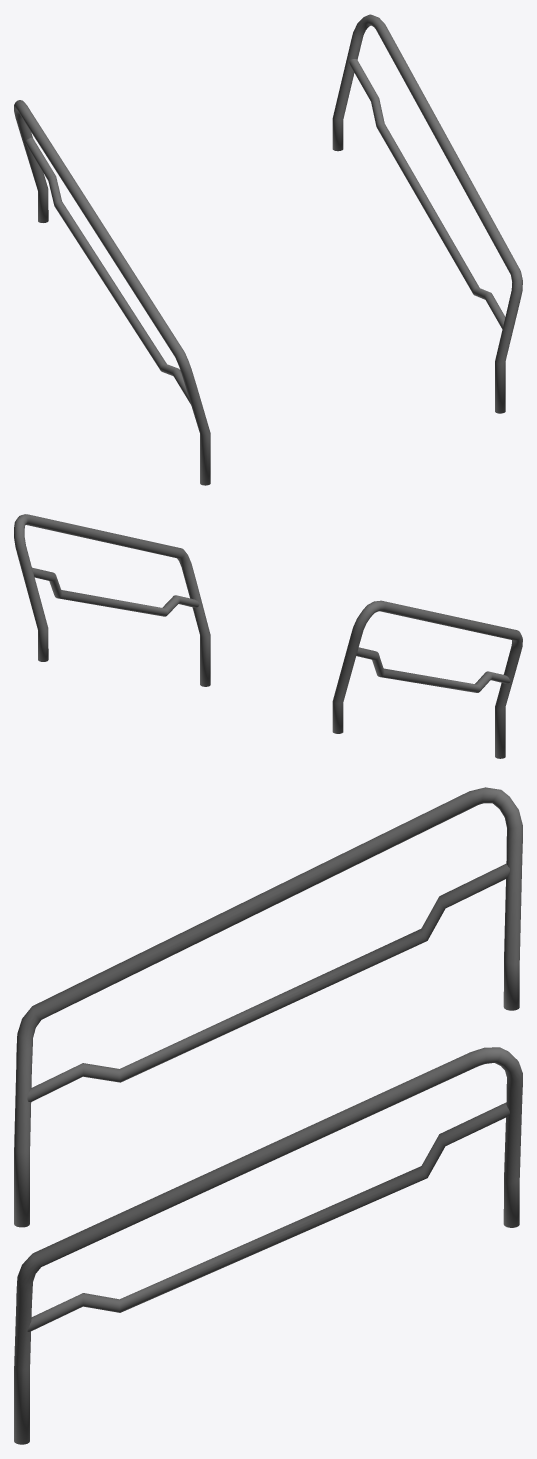
File: platform_rails_2.gltf
The picture shows the model from 3 angles, top to bottom: view 1: azimuth 30°, elevation 25°; view 2: azimuth 150°, elevation 25°; view 3: azimuth 270°, elevation 25°; orthographic projection. The views are drawn at different scales.
Parts seen in each view (by area): view 1: Platform_Rails_2; view 2: Platform_Rails_2; view 3: Platform_Rails_2.
Part boxes in pixels (x1,y1,x2,y2): Platform_Rails_2: (14,14,522,485); Platform_Rails_2: (14,514,522,758); Platform_Rails_2: (14,787,522,1444).
Bounding box in the file's own units: 2.36 × 1.7 × 1.89.
Materials: 1 (1 with a texture image).
